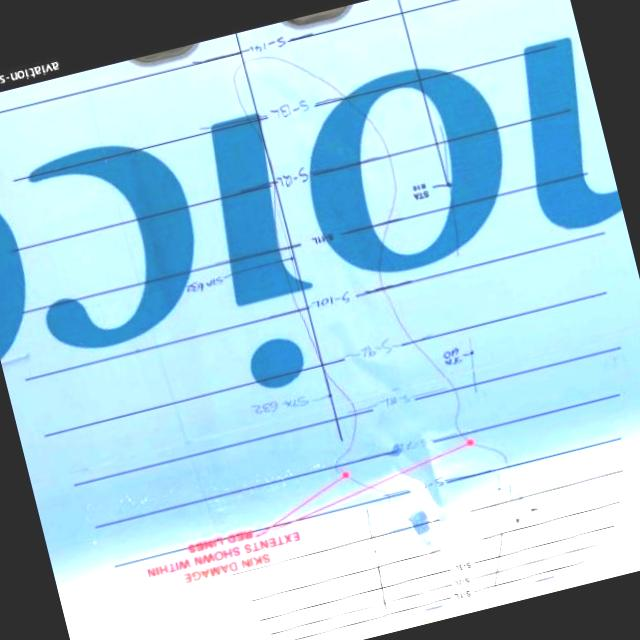dent: (382, 424, 494, 524), (322, 314, 414, 410)
